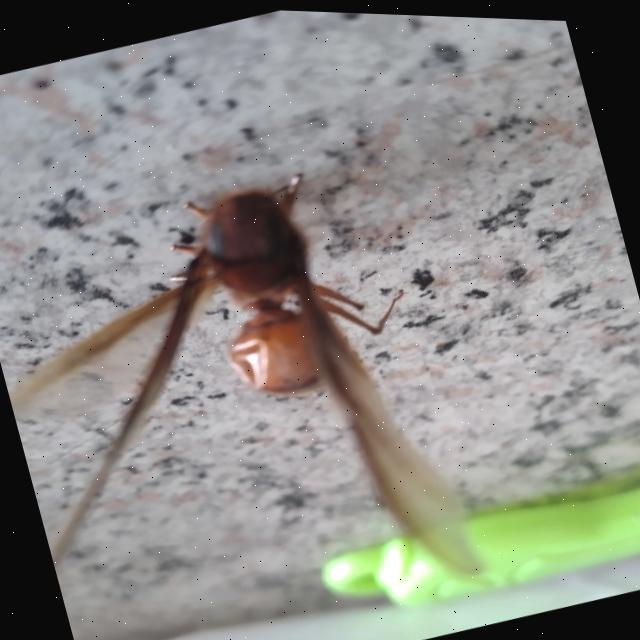Dead-Male-Alate: (0, 143, 480, 640)
